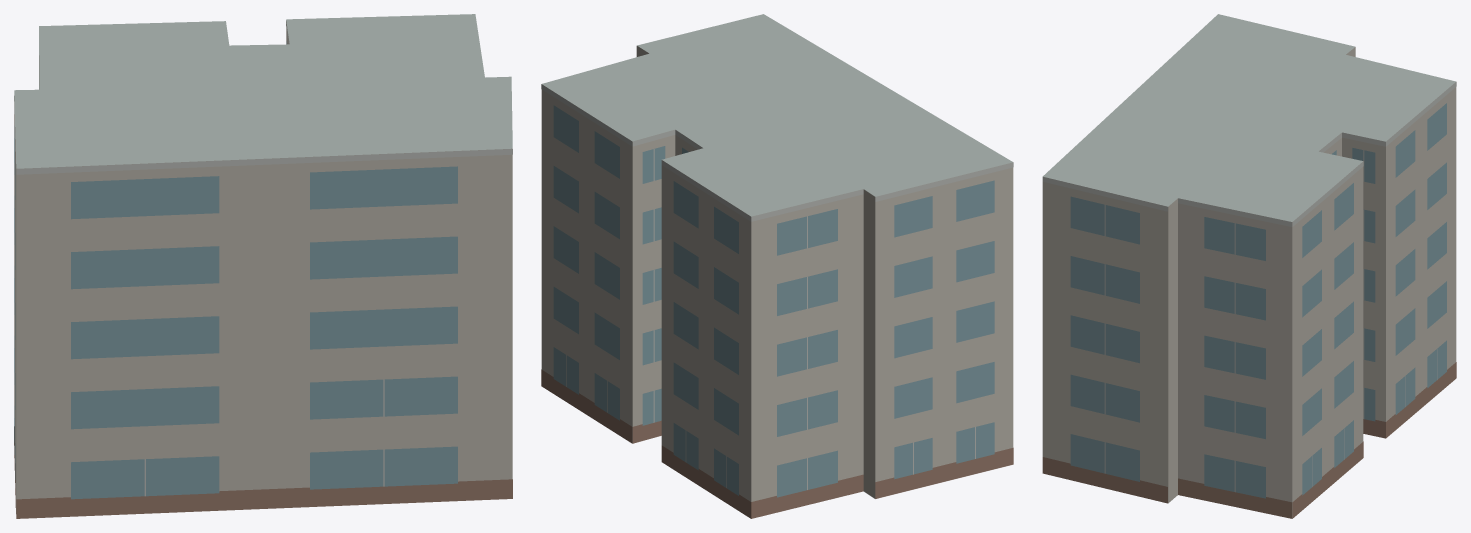
Rendered from survey-upis-33030667.glb.
3 views of the same model, side by side, from view 1: azimuth 30°, elevation 25°; view 2: azimuth 150°, elevation 25°; view 3: azimuth 270°, elevation 25° (orthographic). The views are drawn at different scales.
Visible parts, largest first — view 1: survey-upis-33030667.tmp; view 2: survey-upis-33030667.tmp; view 3: survey-upis-33030667.tmp.
Part boxes in pixels (x1=…): survey-upis-33030667.tmp: x1=14, y1=14, x2=512, y2=518; survey-upis-33030667.tmp: x1=541, y1=14, x2=1013, y2=518; survey-upis-33030667.tmp: x1=1042, y1=14, x2=1456, y2=518.
Bounding box in the file's own units: 21.36 × 14.2 × 17.96.
